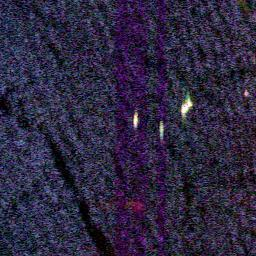Ship: (127, 109, 143, 130), (179, 96, 194, 117), (156, 120, 167, 139), (240, 86, 250, 99)
